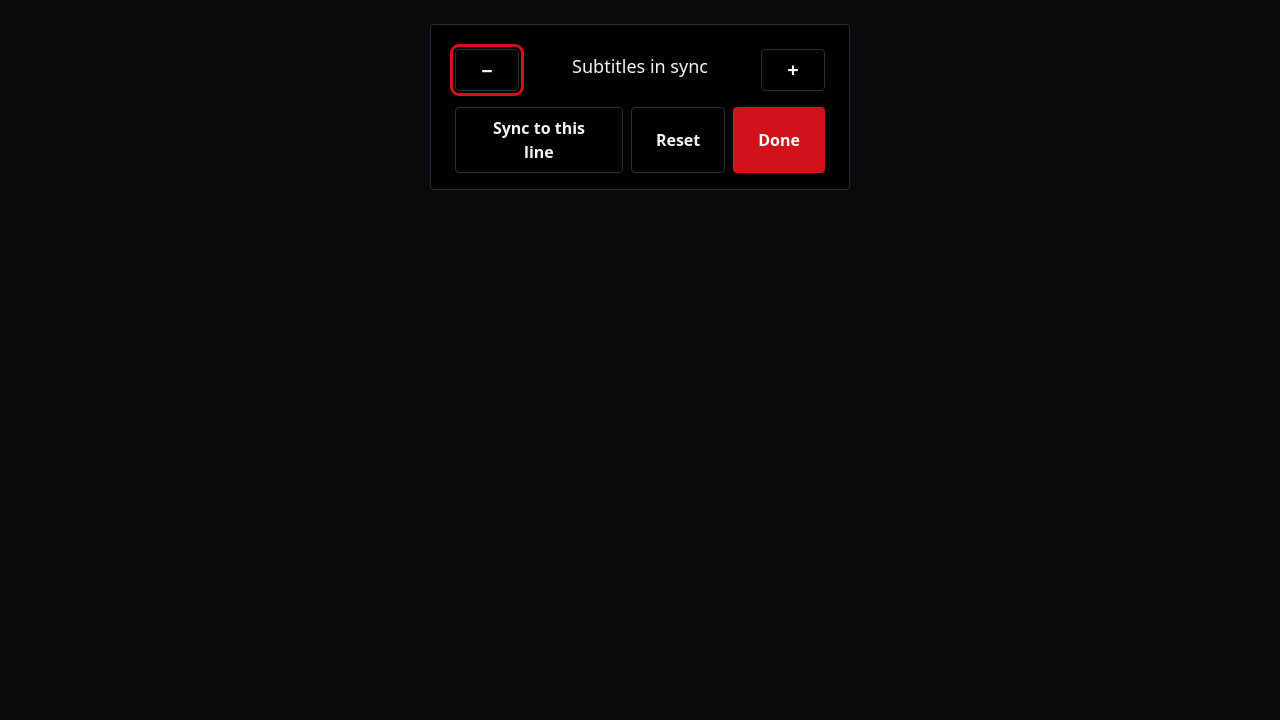
Test: Reset and Sync to this line › syncs to the line on the screen
The width and height of the screenshot is (1280, 720).
Click the button "Sync to this line" at (539, 140), box x1=455 y1=107 x2=623 y2=173
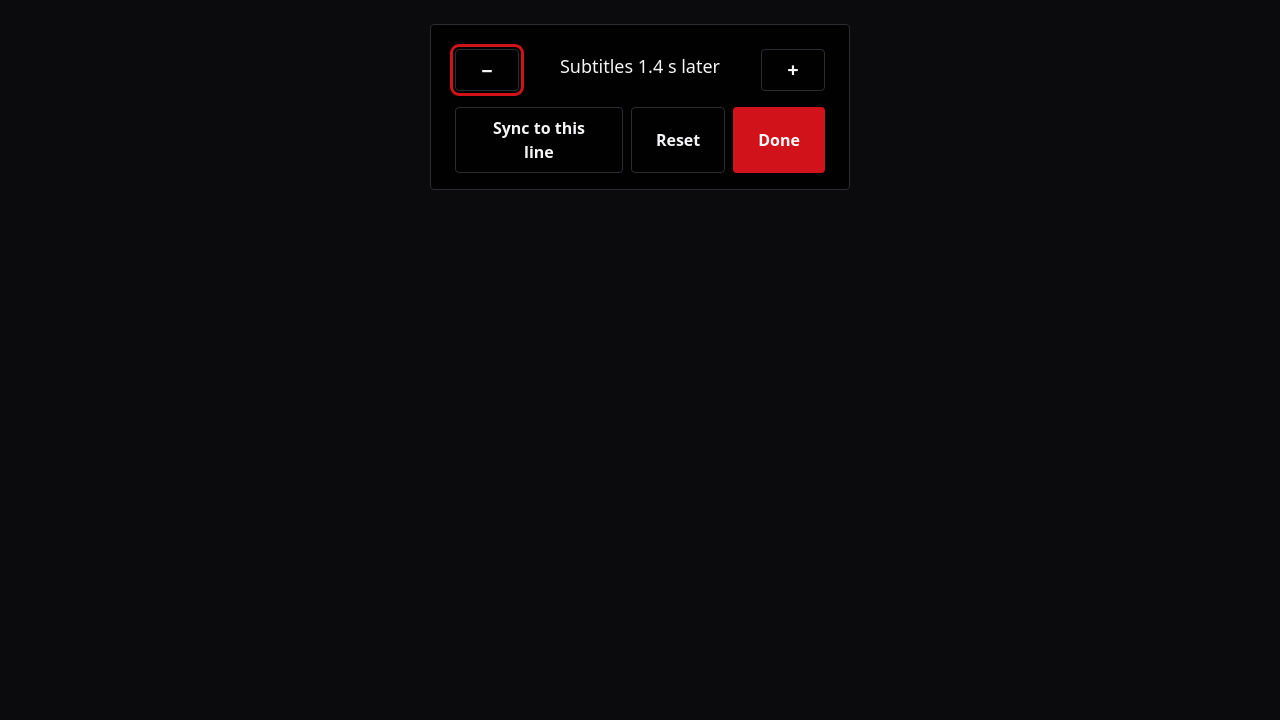
Check: the message "Subtitles 1.4 s later" is shown, box x1=560 y1=54 x2=720 y2=78
